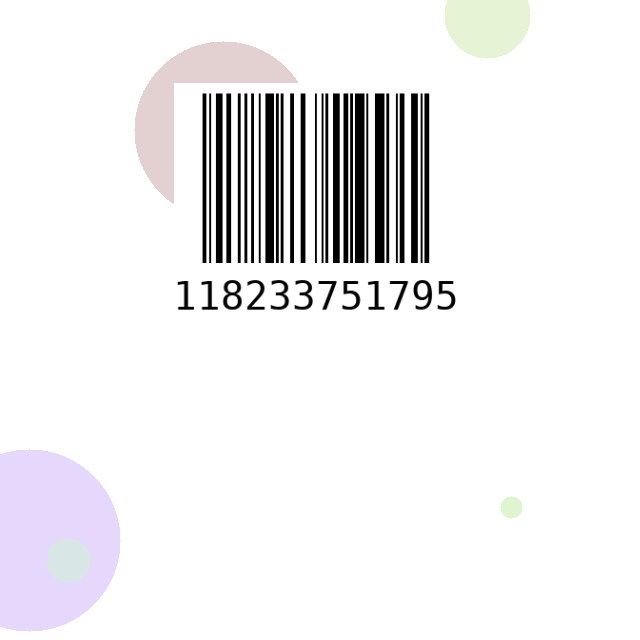barcode: (174, 83, 458, 350)
